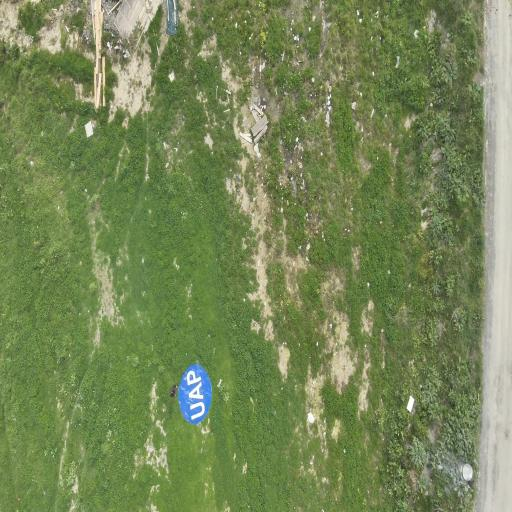UAP: (179, 365, 211, 423)
person: (170, 385, 177, 397)
